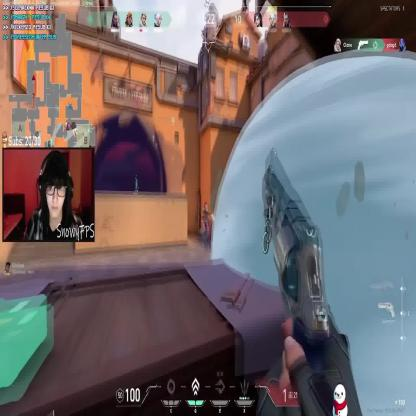enemy: (202, 201, 212, 240), (203, 202, 210, 210)
